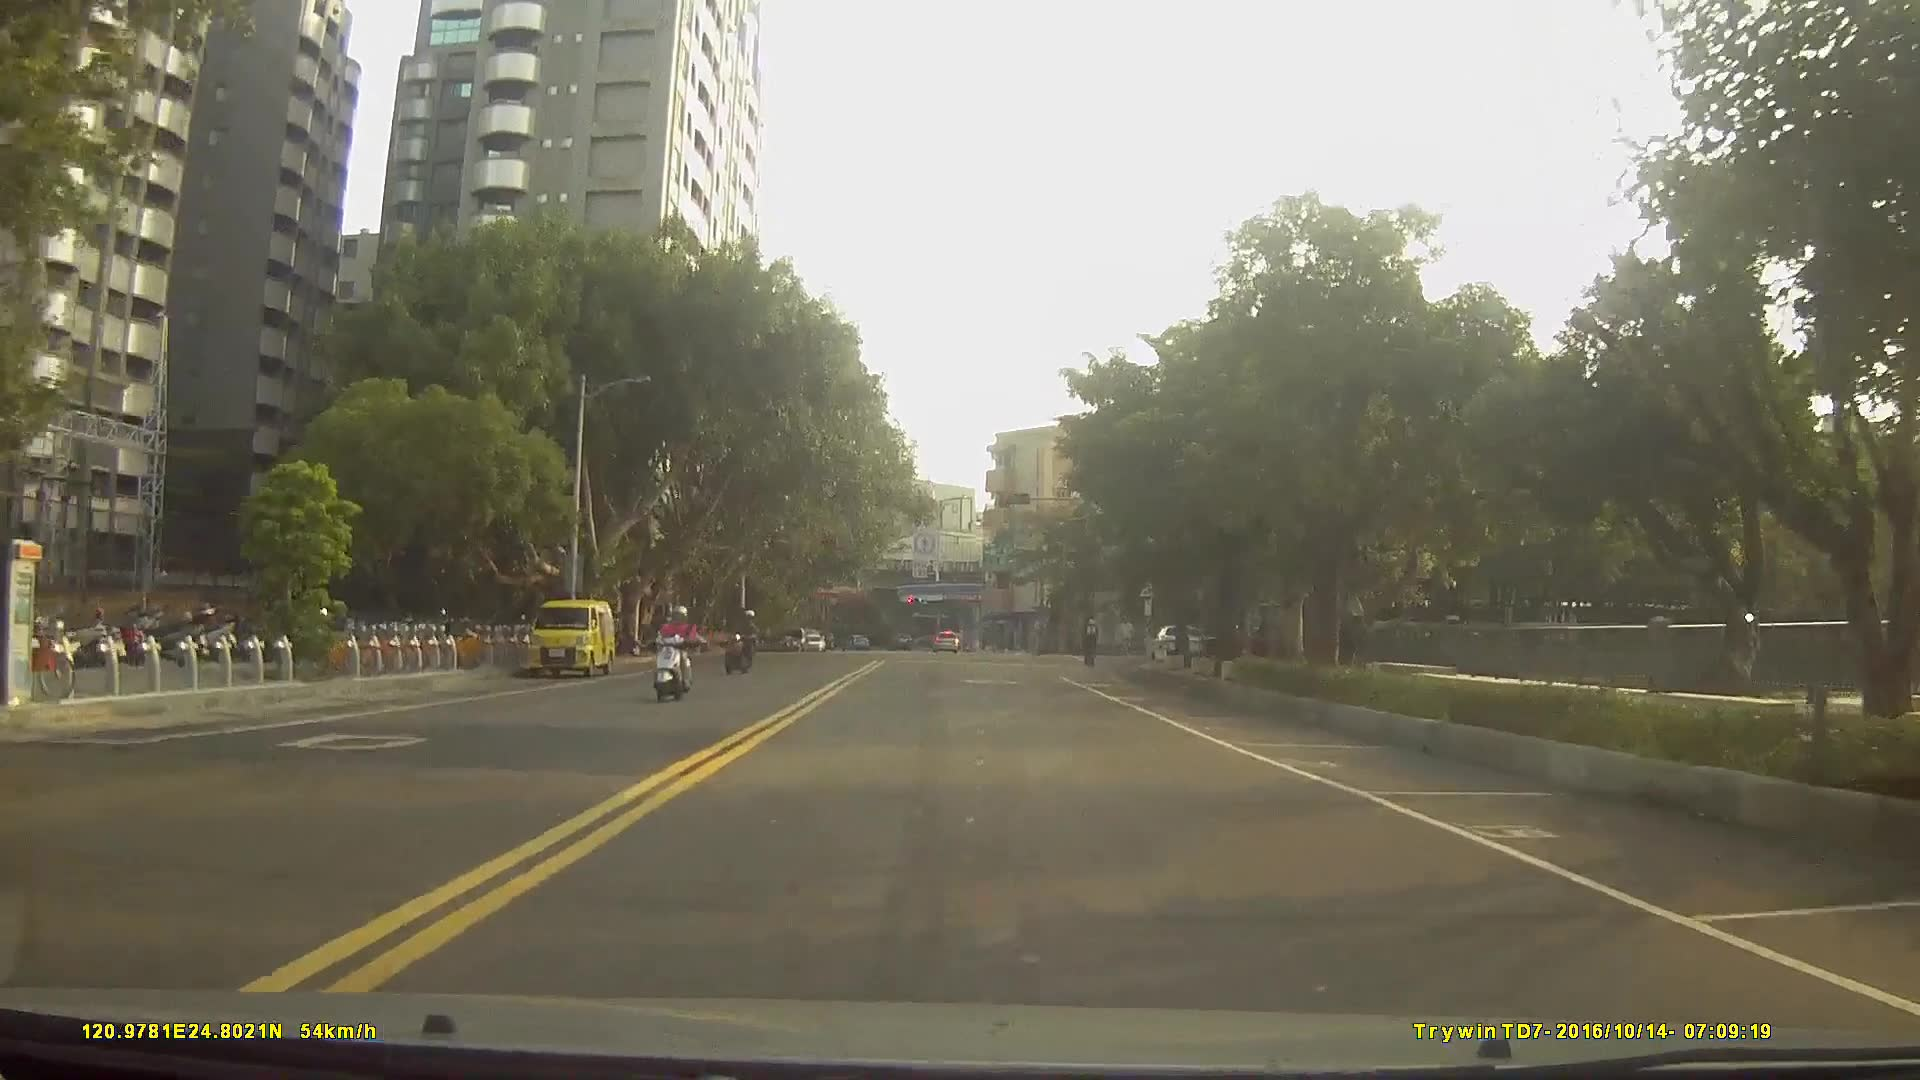pedestrian: (1117, 613, 1137, 657)
rider: (650, 606, 704, 701), (724, 607, 762, 673), (1081, 619, 1103, 673)
vehicle: (934, 630, 959, 653)
